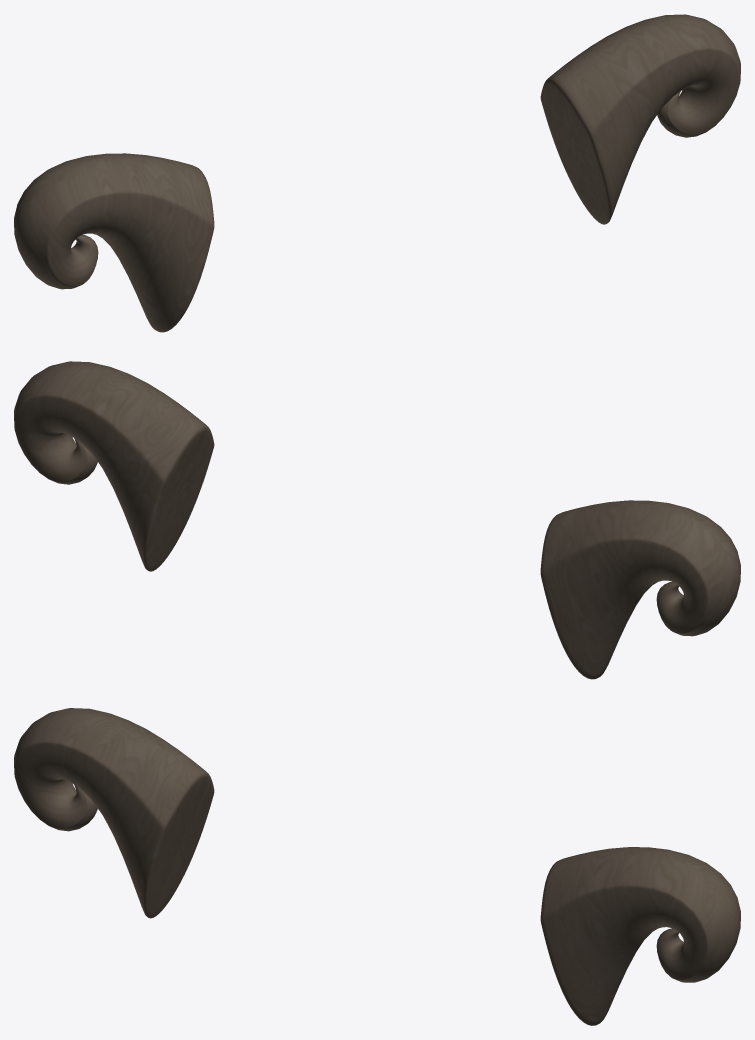
The model's file is Corne_chevre.fbx.
The picture shows the model from 3 angles, top to bottom: view 1: azimuth 30°, elevation 25°; view 2: azimuth 150°, elevation 25°; view 3: azimuth 330°, elevation 25°; orthographic projection.
Visible parts, largest first — view 1: Corne chevre; view 2: Corne chevre; view 3: Corne chevre.
Boxes of the visible parts, x1,y1,x2,y2 form: Corne chevre: (14,14,740,332); Corne chevre: (14,361,740,679); Corne chevre: (14,708,740,1025).
Size of the model in its own units: 84.45 by 20.96 by 10.69.
Materials: 1 (1 with a texture image).
